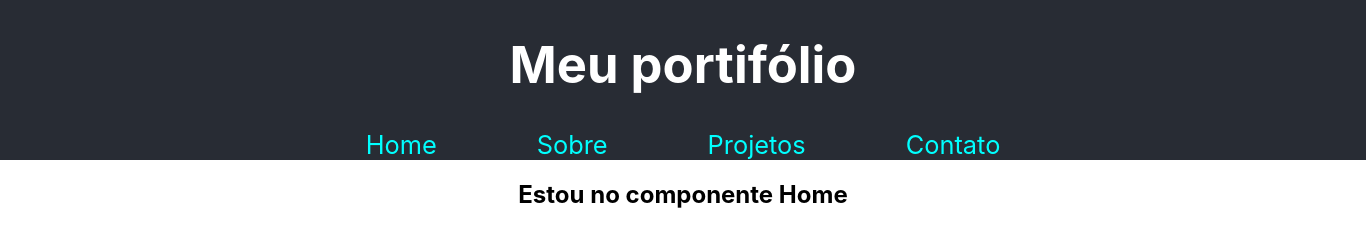
Test case: Teste das rotas da aplicação › Verifica se o componente "Contact" é renderizado após o direcionamento
The image size is (1366, 229).
Click the link "Contato" at (953, 144), box x1=906 y1=129 x2=1000 y2=160
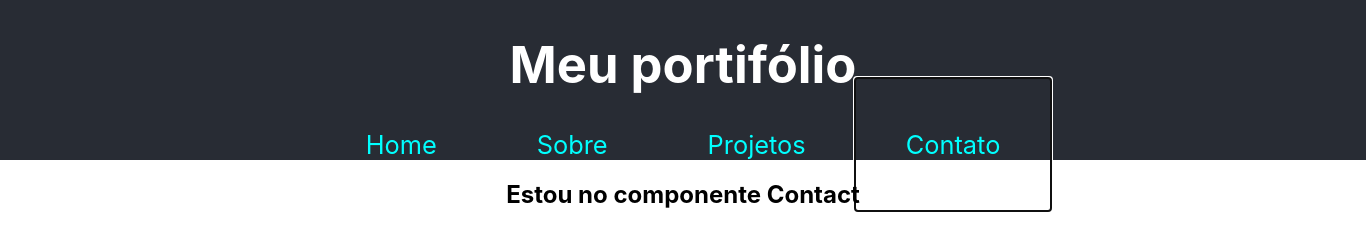
Now the heading "Estou no componente Contact" is shown, box x1=506 y1=180 x2=860 y2=209
